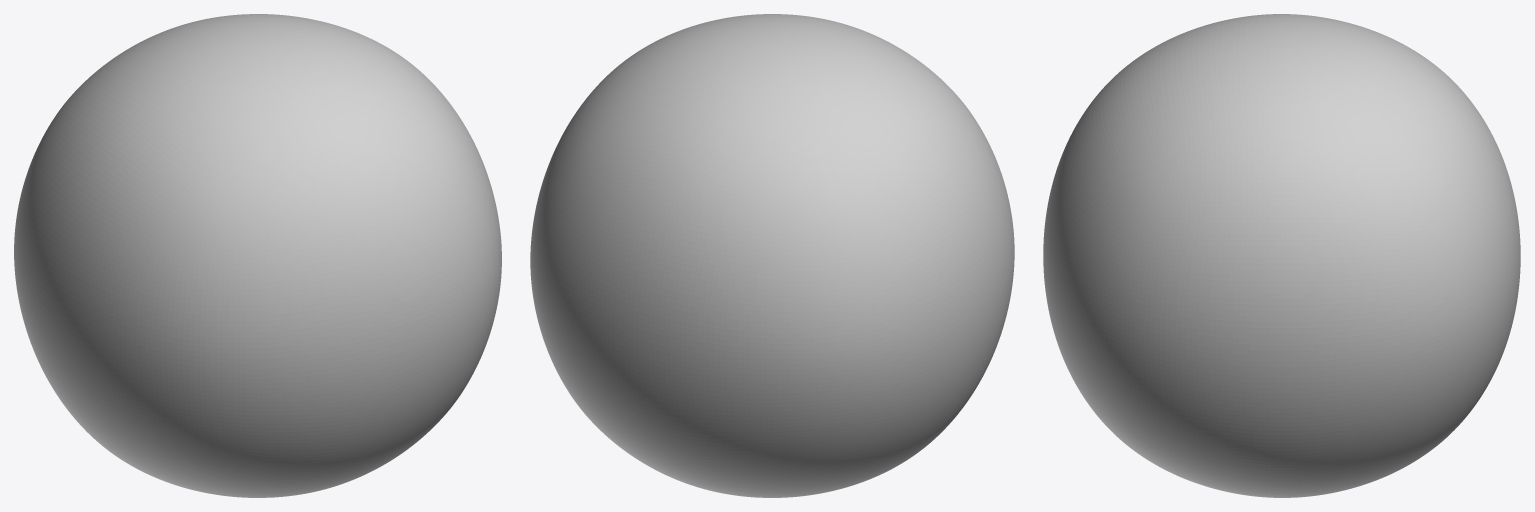
File: TestSphere.obj
3 renders of one model, left to right at view 1: azimuth 30°, elevation 25°; view 2: azimuth 150°, elevation 25°; view 3: azimuth 270°, elevation 25°, orthographic.
Visible parts, largest first — view 1: Cube; view 2: Cube; view 3: Cube.
Part boxes in pixels (x1,y1,x2,y2): Cube: [14, 14, 501, 497]; Cube: [530, 14, 1014, 497]; Cube: [1043, 14, 1520, 497].
Size of the model in its own units: 0.421 by 0.421 by 0.421.
1 material, 1 textured.
